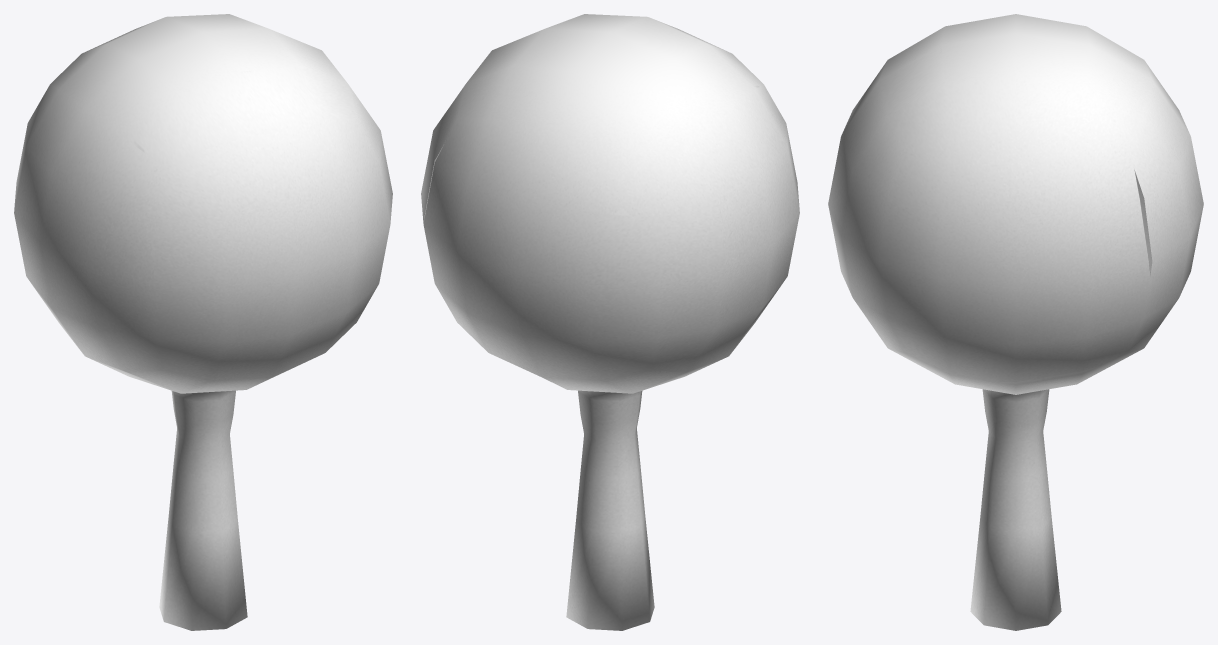
The model's file is tree_cakepop_00.obj.
3 renders of one model, left to right at view 1: azimuth 30°, elevation 25°; view 2: azimuth 150°, elevation 25°; view 3: azimuth 270°, elevation 25°, orthographic.
Bounding box in the file's own units: 1.72 × 2.92 × 1.72.
